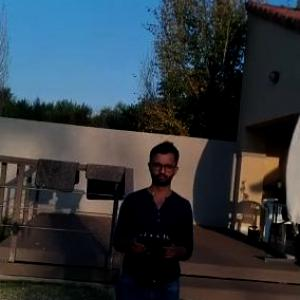follow: (110, 132, 202, 299)
